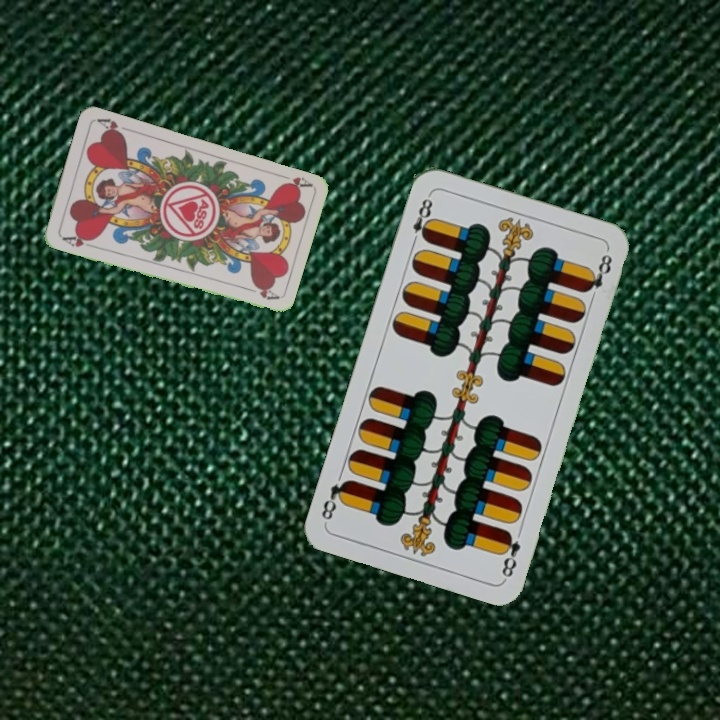E8: (407, 191, 436, 249), (496, 527, 523, 580)
HA: (274, 170, 313, 193), (58, 230, 97, 250)
